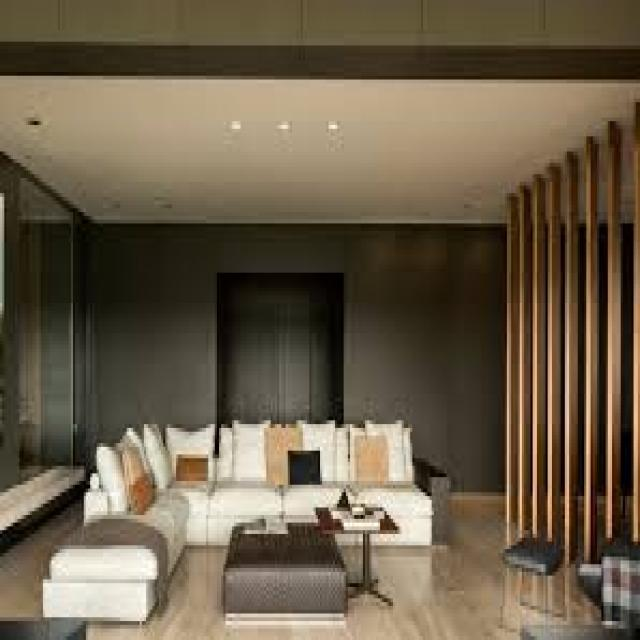Sofa: (54, 413, 424, 623)
Table: (228, 512, 348, 611), (501, 534, 567, 624)
